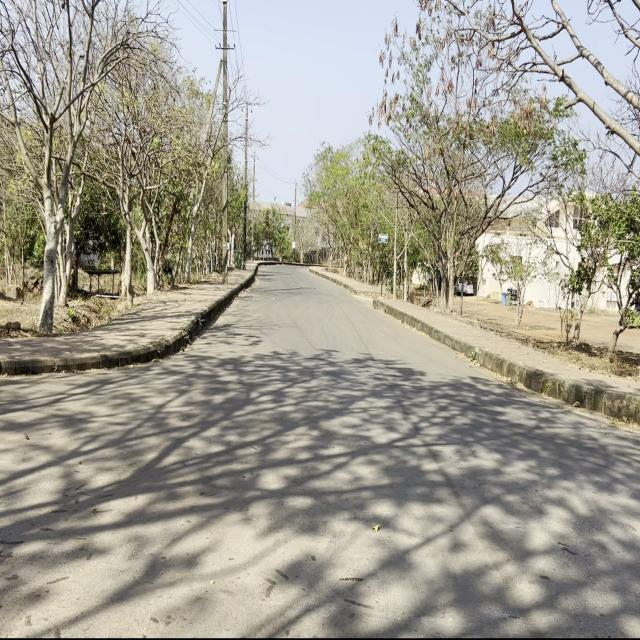Road: (4, 265, 638, 634)
